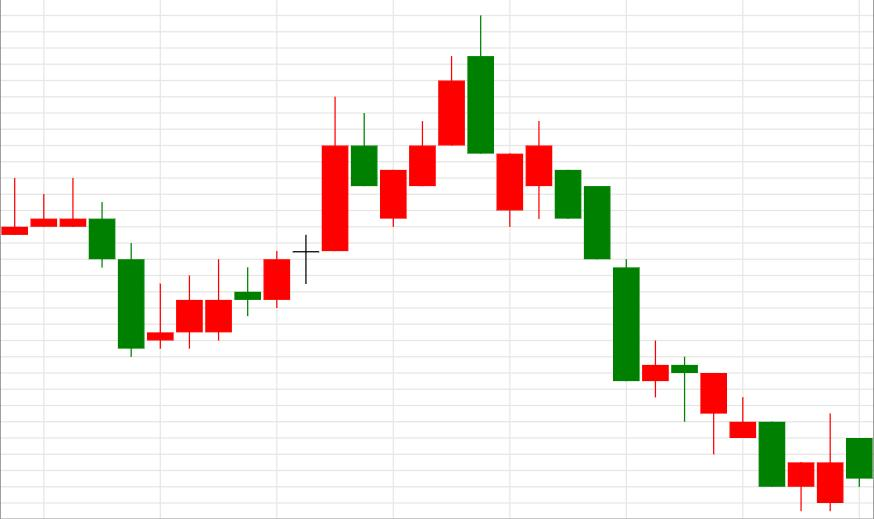bearish_engulfing_fall: (380, 14, 495, 226)
